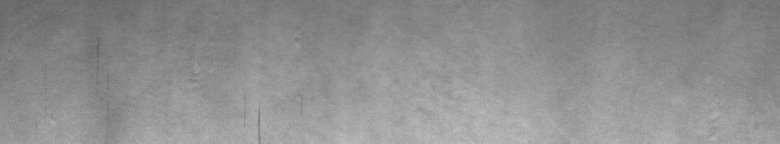ka: (195, 63, 263, 136)
